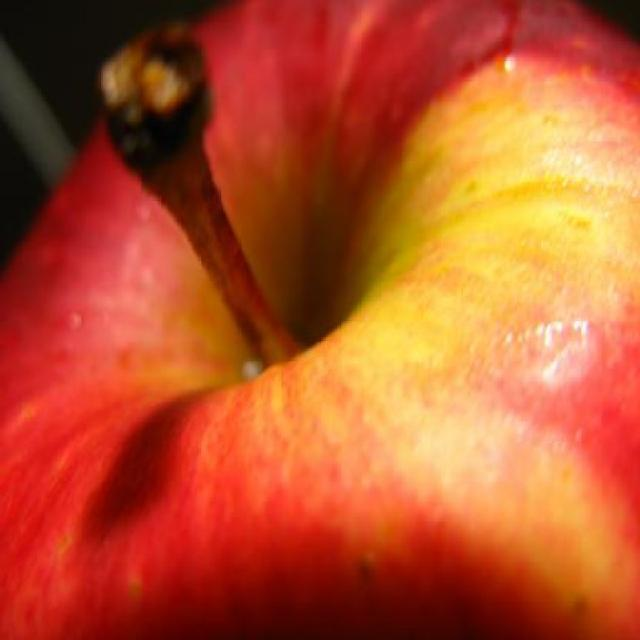Apple pie: (41, 3, 626, 640)
